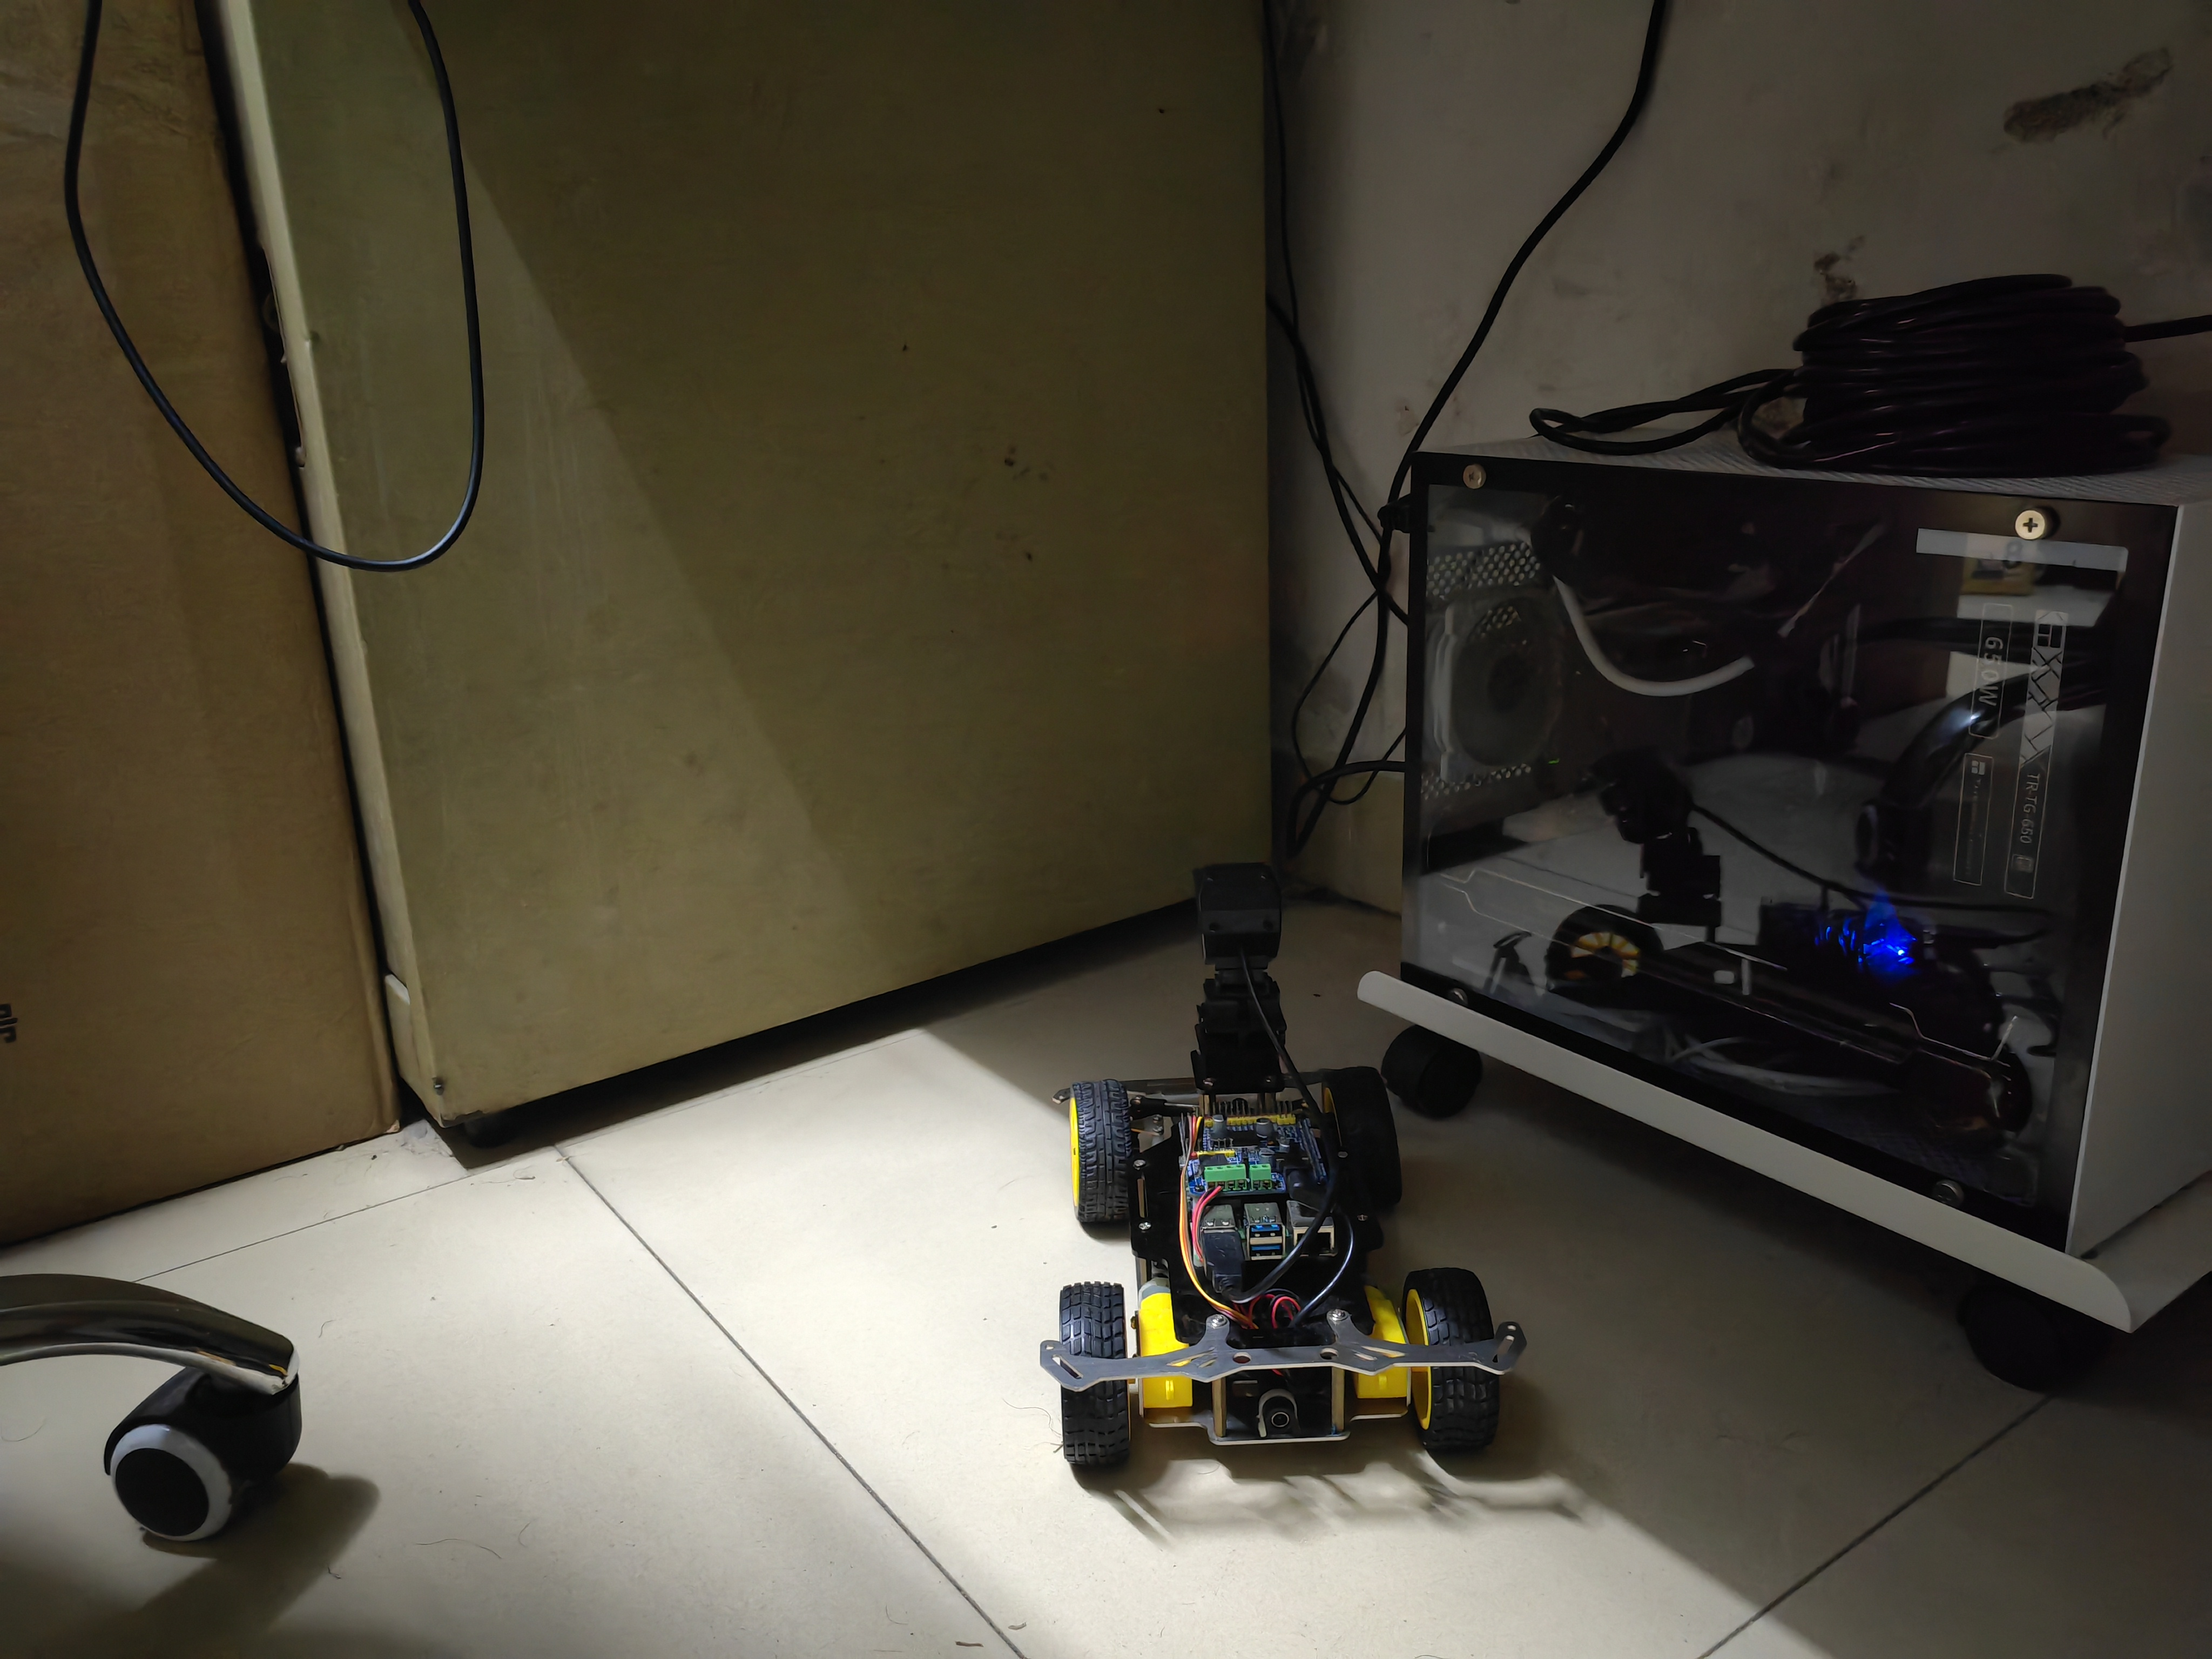car: (1028, 842, 1536, 1509)
